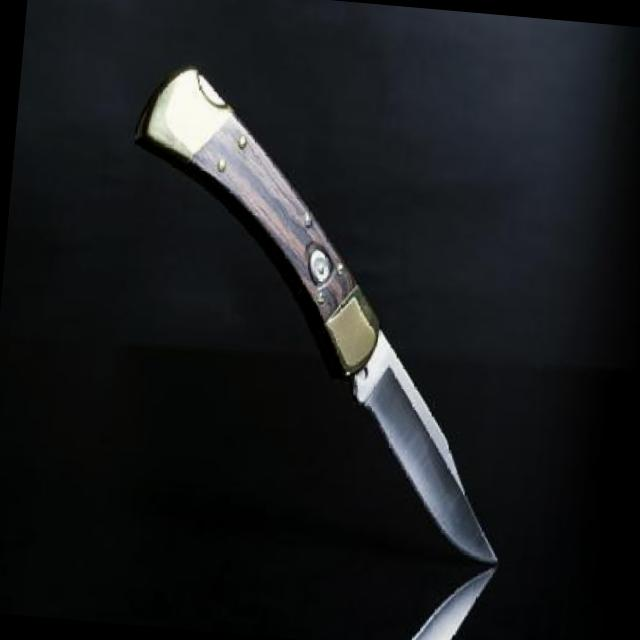knife: (328, 268, 522, 633)
